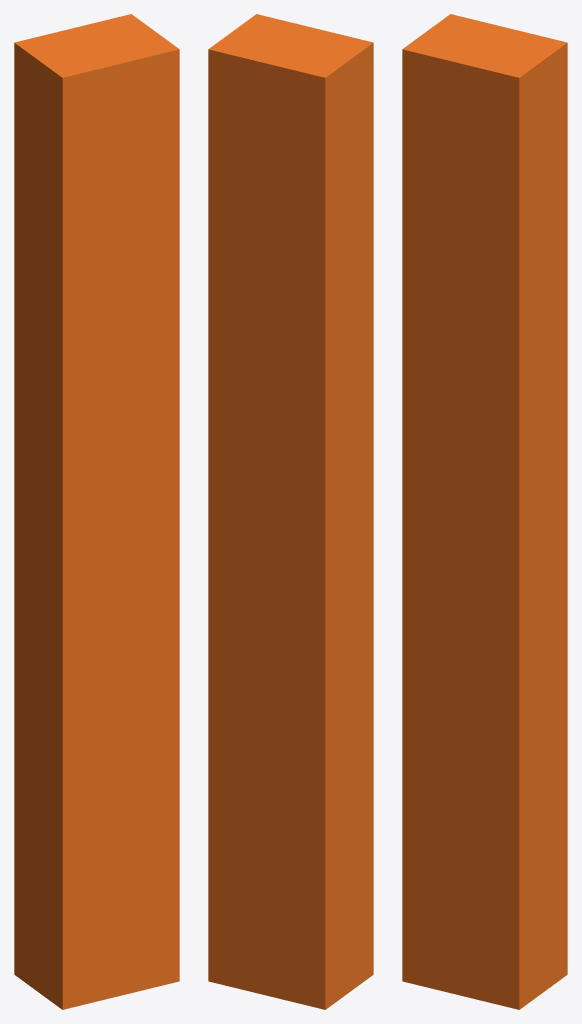
File: tallWall.obj
3 views of the same model, side by side, from view 1: azimuth 30°, elevation 25°; view 2: azimuth 150°, elevation 25°; view 3: azimuth 330°, elevation 25° (orthographic).
Parts seen in each view (by area): view 1: pCube2; view 2: pCube2; view 3: pCube2.
Boxes of the visible parts, x1,y1,x2,y2 form: pCube2: [14, 14, 179, 1009]; pCube2: [208, 14, 373, 1009]; pCube2: [402, 14, 567, 1009].
Bounding box in the file's own units: 2.09 × 15.93 × 1.5.
Materials: 1 (1 with a texture image).
